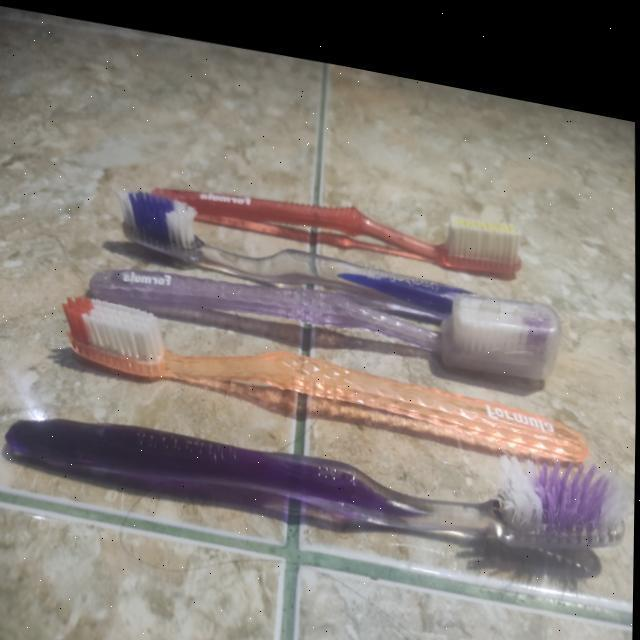toothbrush: (0, 343, 634, 604), (50, 269, 594, 466), (76, 189, 560, 391), (122, 113, 538, 274), (121, 166, 549, 314)
